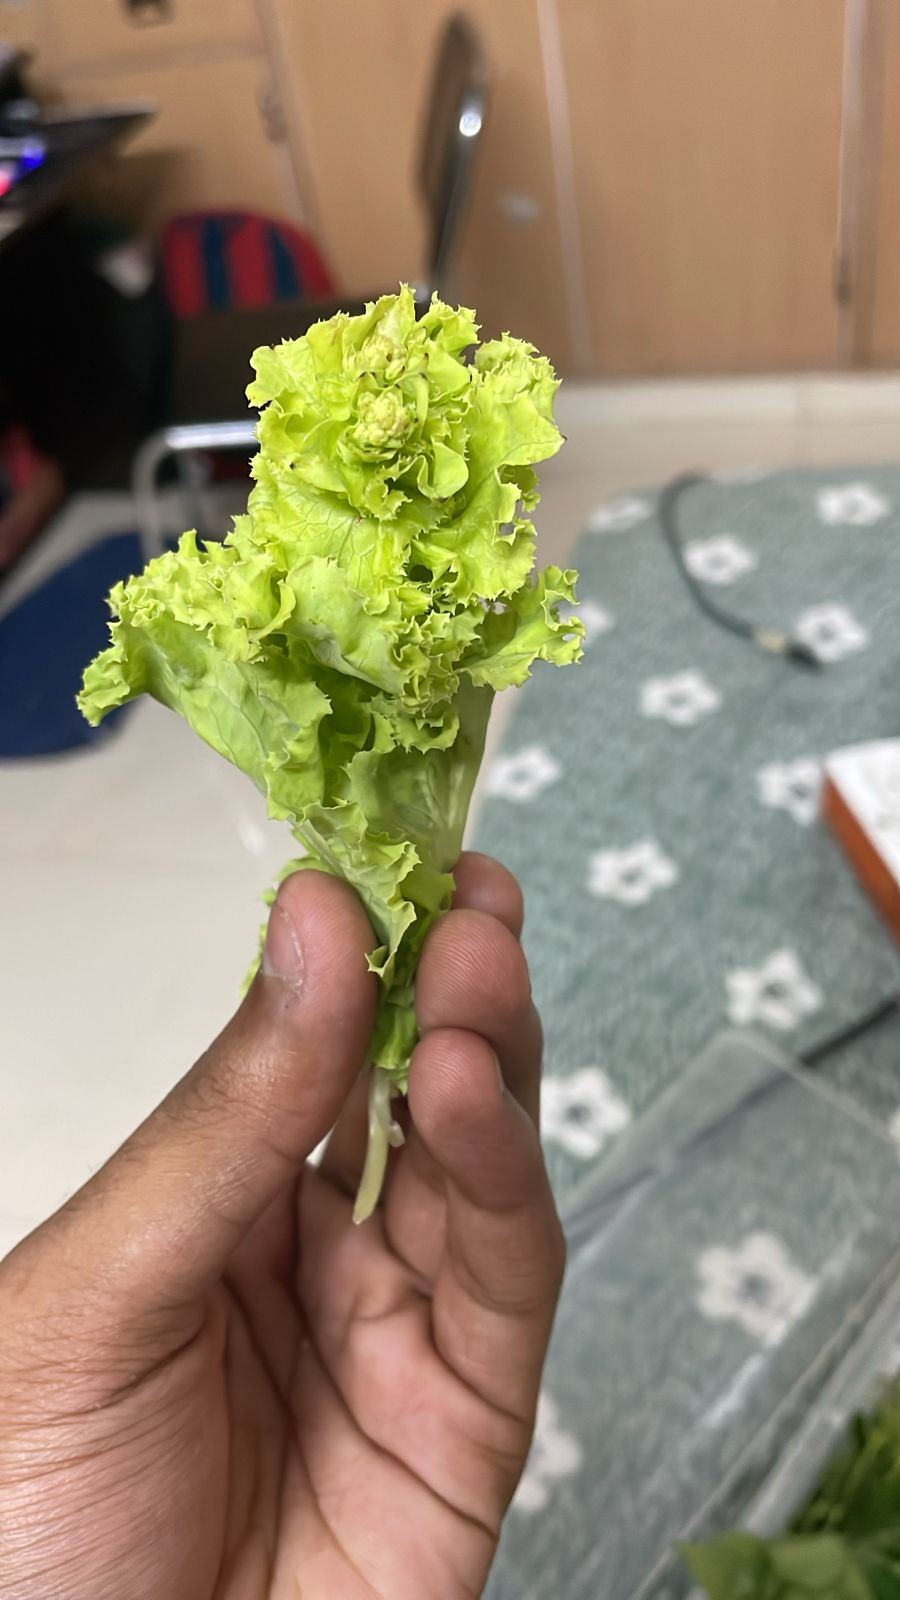wet: (87, 300, 549, 851)
